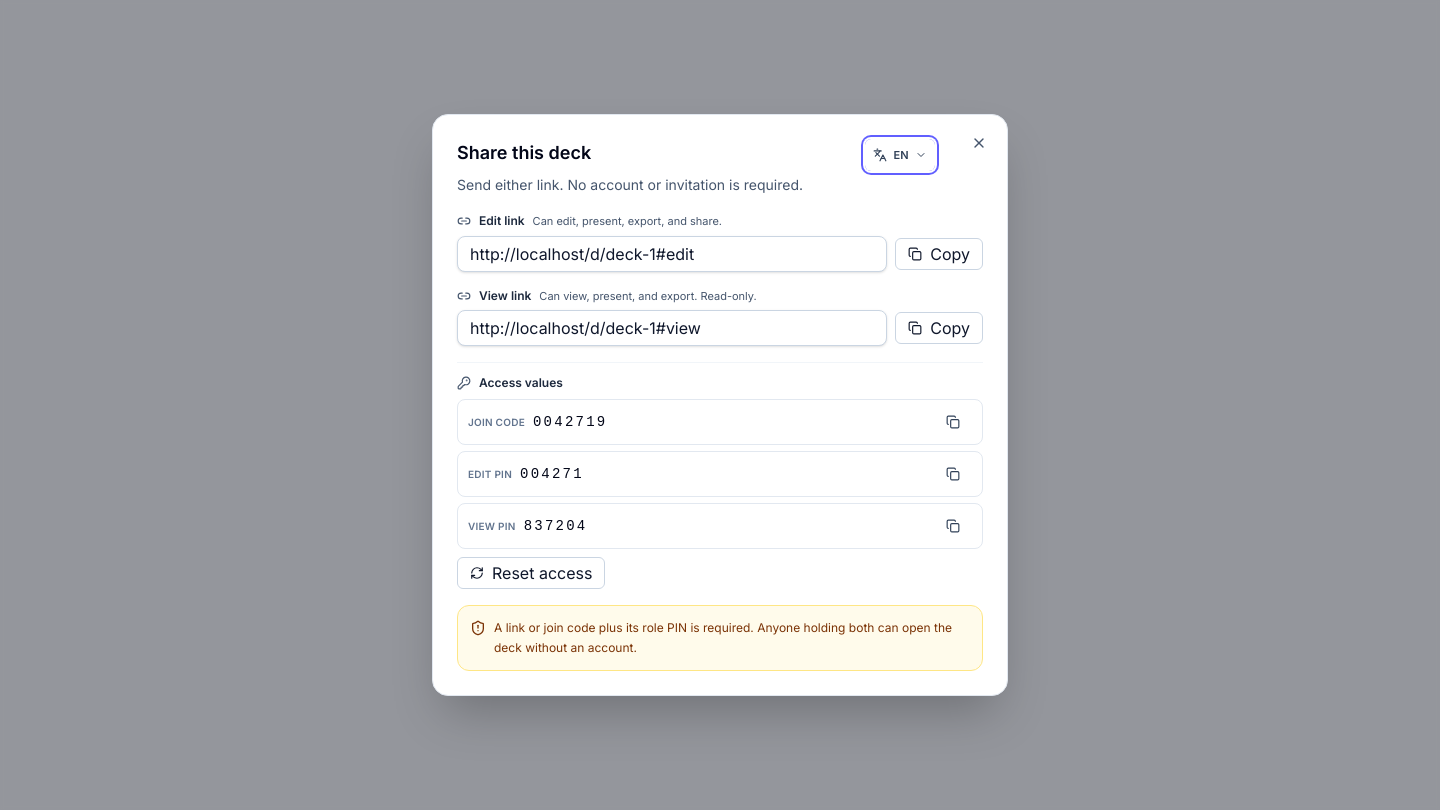
Scenario: ShareDialog access values › resets access and stores the new values
Click the button with test id "reset-access": (531, 573) x1=457 y1=557 x2=605 y2=589
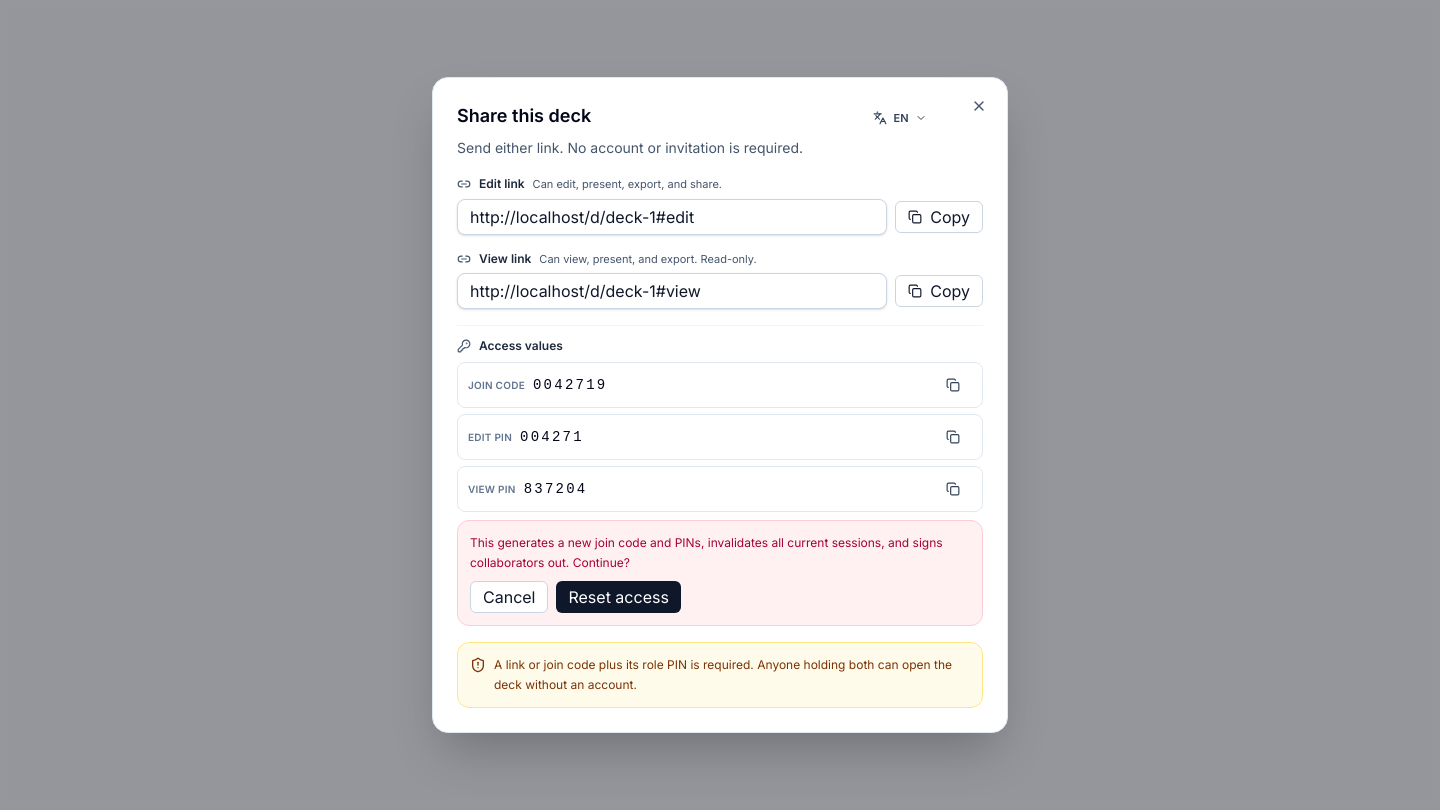
Click the button with test id "reset-access-confirm": (619, 597) x1=556 y1=581 x2=681 y2=613
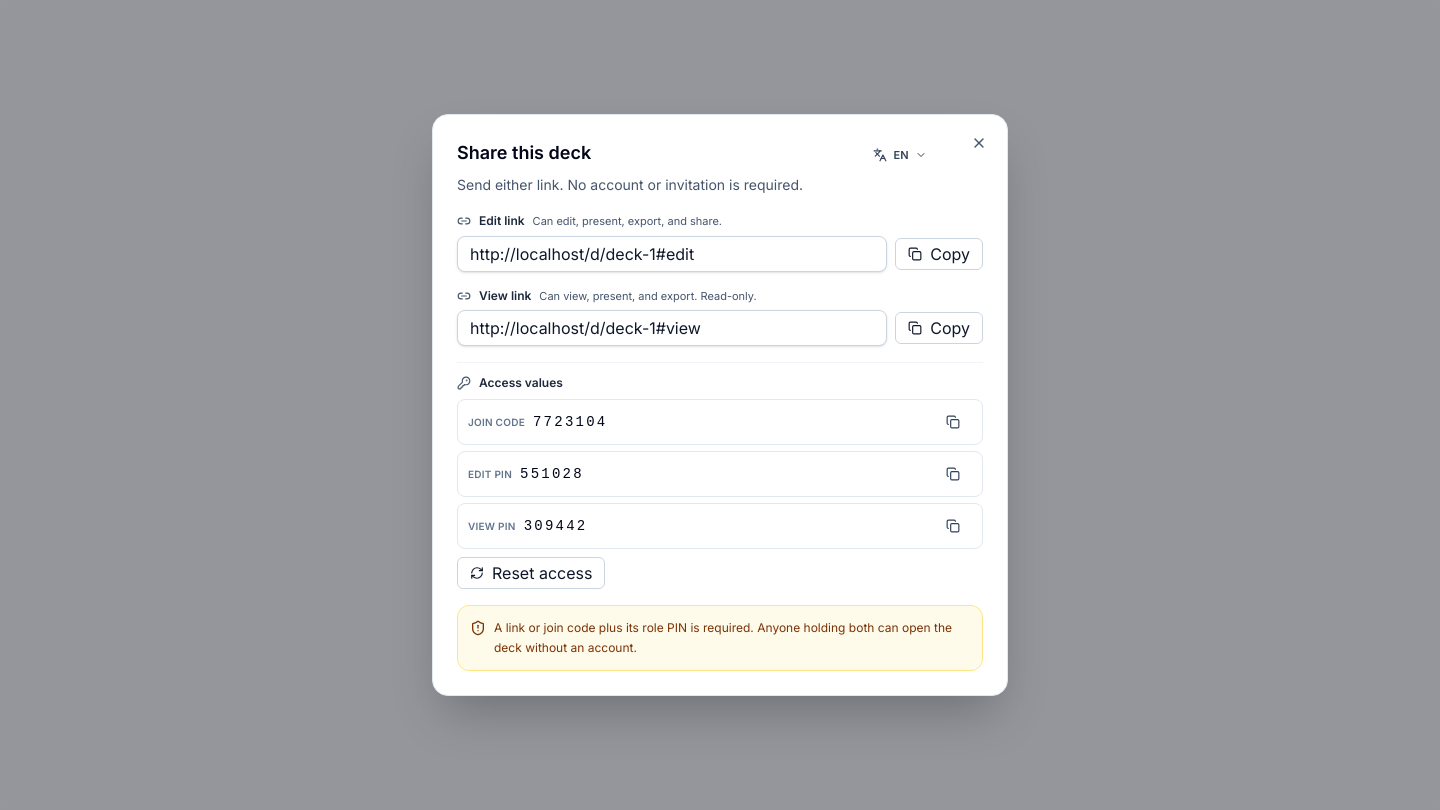
Expected: the text with test id "share-join-code" reads "7723104", x1=533 y1=414 x2=608 y2=430
